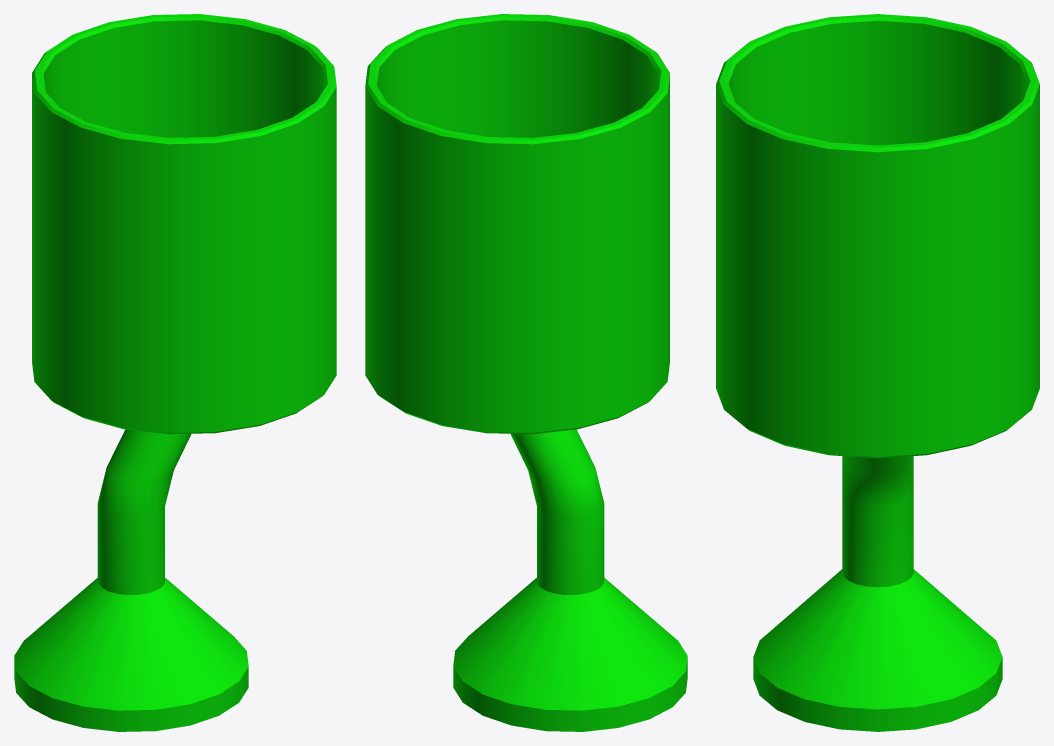
File: little_Lamp_msh.fbx
3 renders of one model, left to right at view 1: azimuth 30°, elevation 25°; view 2: azimuth 150°, elevation 25°; view 3: azimuth 270°, elevation 25°, orthographic. The views are drawn at different scales.
Parts seen in each view (by area): view 1: little_LampA_msh; view 2: little_LampA_msh; view 3: little_LampA_msh.
Part boxes in pixels (left/top/right/bottom): little_LampA_msh: left=14, top=14, right=336, bottom=731; little_LampA_msh: left=365, top=14, right=687, bottom=731; little_LampA_msh: left=716, top=14, right=1039, bottom=731.
Bounding box in the file's own units: 28.18 × 55.43 × 26.
